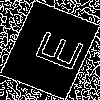E: (24, 24, 85, 74)
